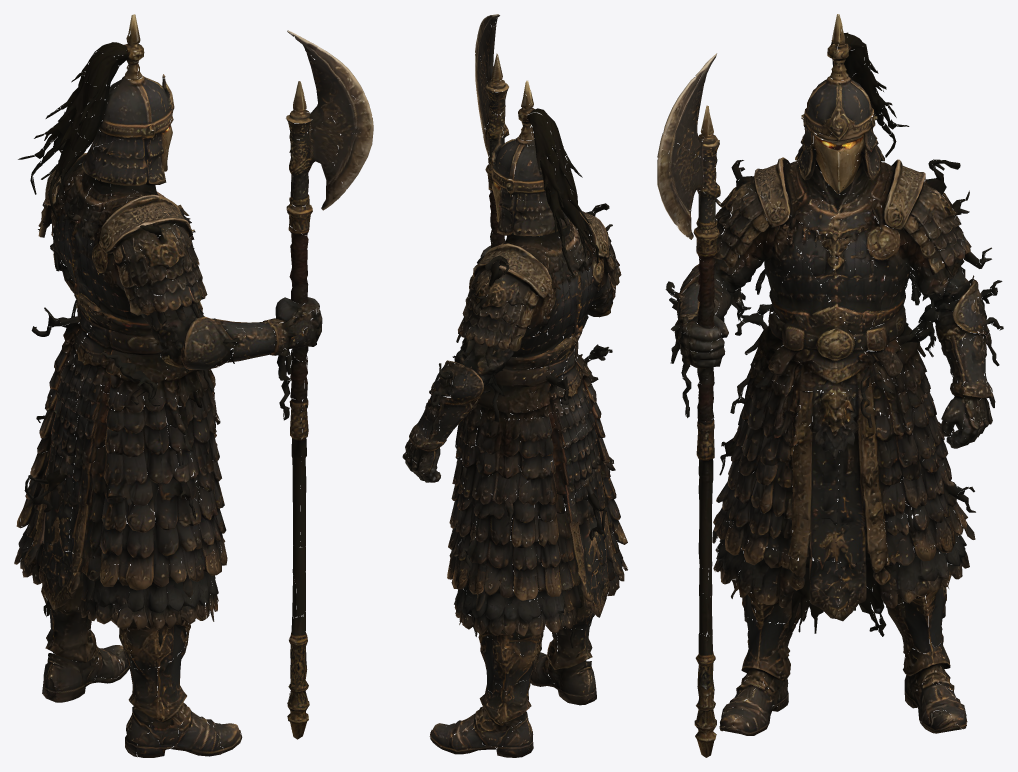
Rendered from ThroneGuard-tripo.glb.
3 views of the same model, side by side, from view 1: azimuth 30°, elevation 25°; view 2: azimuth 150°, elevation 25°; view 3: azimuth 270°, elevation 25° (orthographic). The views are drawn at different scales.
Visible parts, largest first — view 1: tripo_node_c8792cce-ba35-424b-81f8-f9f15836d7b2; view 2: tripo_node_c8792cce-ba35-424b-81f8-f9f15836d7b2; view 3: tripo_node_c8792cce-ba35-424b-81f8-f9f15836d7b2.
Boxes of the visible parts, <box> form: tripo_node_c8792cce-ba35-424b-81f8-f9f15836d7b2: <box>14,14,373,757</box>; tripo_node_c8792cce-ba35-424b-81f8-f9f15836d7b2: <box>402,14,627,757</box>; tripo_node_c8792cce-ba35-424b-81f8-f9f15836d7b2: <box>657,14,1003,757</box>.
Bounding box in the file's own units: 0.362 × 0.9995 × 0.4442.
Materials: 1 (1 with a texture image).
